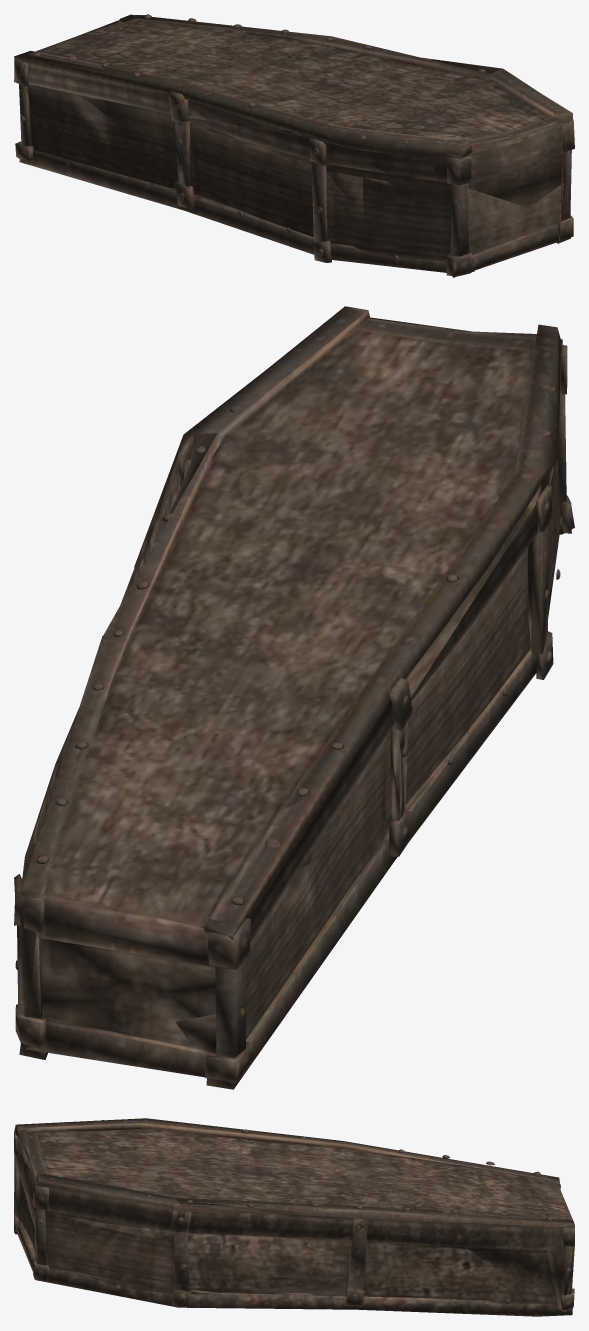
Rendered from h_coffin.glb.
3 views of the same model, one above another, from view 1: azimuth 30°, elevation 25°; view 2: azimuth 150°, elevation 25°; view 3: azimuth 270°, elevation 25° (orthographic). The views are drawn at different scales.
Parts seen in each view (by area): view 1: h_coffin; view 2: h_coffin; view 3: h_coffin.
Boxes of the visible parts, left/top/right/bottom form: h_coffin: left=14, top=14, right=574, bottom=277; h_coffin: left=14, top=306, right=574, bottom=1089; h_coffin: left=14, top=1118, right=574, bottom=1316.
Size of the model in its own units: 1.35 by 1.11 by 3.
Materials: 1 (1 with a texture image).
